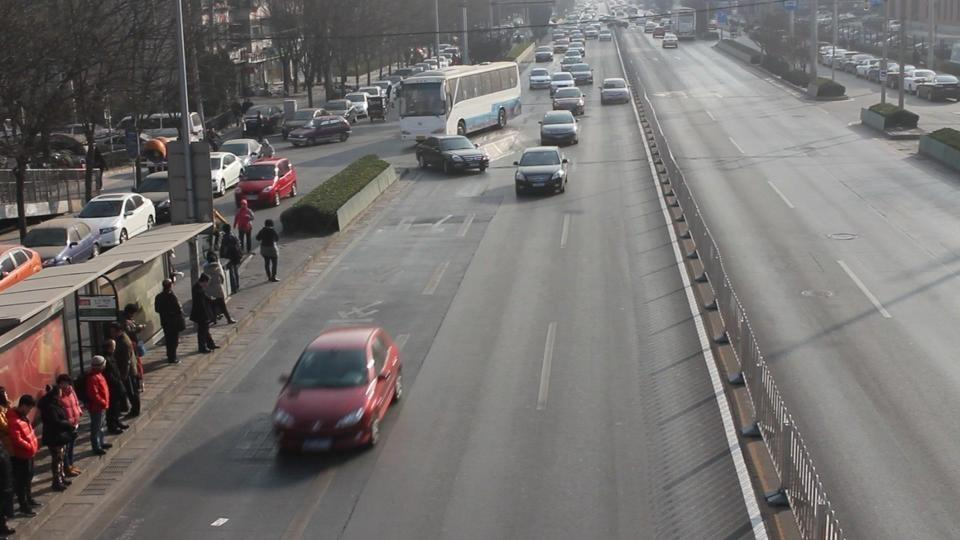car: (269, 323, 405, 454), (78, 192, 156, 248), (21, 218, 99, 267), (237, 156, 298, 208), (414, 134, 490, 175), (513, 146, 569, 196), (287, 112, 351, 147), (860, 102, 921, 137), (0, 244, 43, 291), (137, 171, 173, 223), (540, 109, 580, 147), (209, 152, 242, 198), (344, 90, 387, 123), (915, 72, 960, 102), (220, 138, 263, 169), (241, 106, 283, 135), (551, 87, 586, 117), (899, 68, 937, 94), (599, 77, 631, 105), (567, 62, 595, 85), (853, 56, 880, 78), (528, 68, 552, 90), (551, 72, 577, 92), (662, 30, 679, 49), (535, 48, 553, 63)
